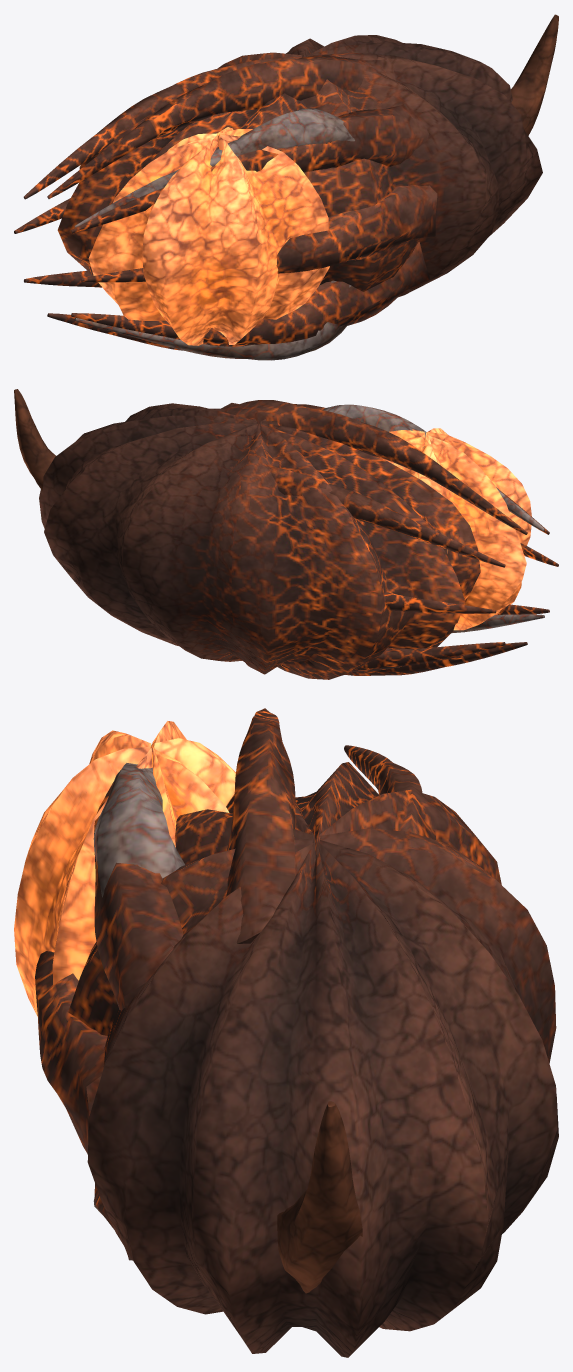
File: cinder-maw.glb
3 renders of one model, top to bottom at view 1: azimuth 30°, elevation 25°; view 2: azimuth 150°, elevation 25°; view 3: azimuth 270°, elevation 25°, orthographic. The views are drawn at different scales.
Visible parts, largest first — view 1: cinder-maw_carapace, cinder-maw_signal, cinder-maw_rib, cinder-maw_membrane; view 2: cinder-maw_carapace, cinder-maw_signal, cinder-maw_rib, cinder-maw_membrane; view 3: cinder-maw_carapace, cinder-maw_signal, cinder-maw_membrane, cinder-maw_rib.
Part boxes in pixels (<box>): cinder-maw_carapace: <box>14,35,542,350</box>; cinder-maw_signal: <box>88,127,329,345</box>; cinder-maw_rib: <box>74,108,354,360</box>; cinder-maw_membrane: <box>511,14,558,135</box>; cinder-maw_carapace: <box>39,400,558,679</box>; cinder-maw_signal: <box>381,428,531,630</box>; cinder-maw_rib: <box>322,404,544,633</box>; cinder-maw_membrane: <box>14,389,55,490</box>; cinder-maw_carapace: <box>35,708,558,1357</box>; cinder-maw_signal: <box>14,721,235,1016</box>; cinder-maw_membrane: <box>277,1101,362,1293</box>; cinder-maw_rib: <box>93,763,184,1214</box>.
Bounding box in the file's own units: 3.67 × 1.83 × 1.84.
Materials: 4 (4 with a texture image).
